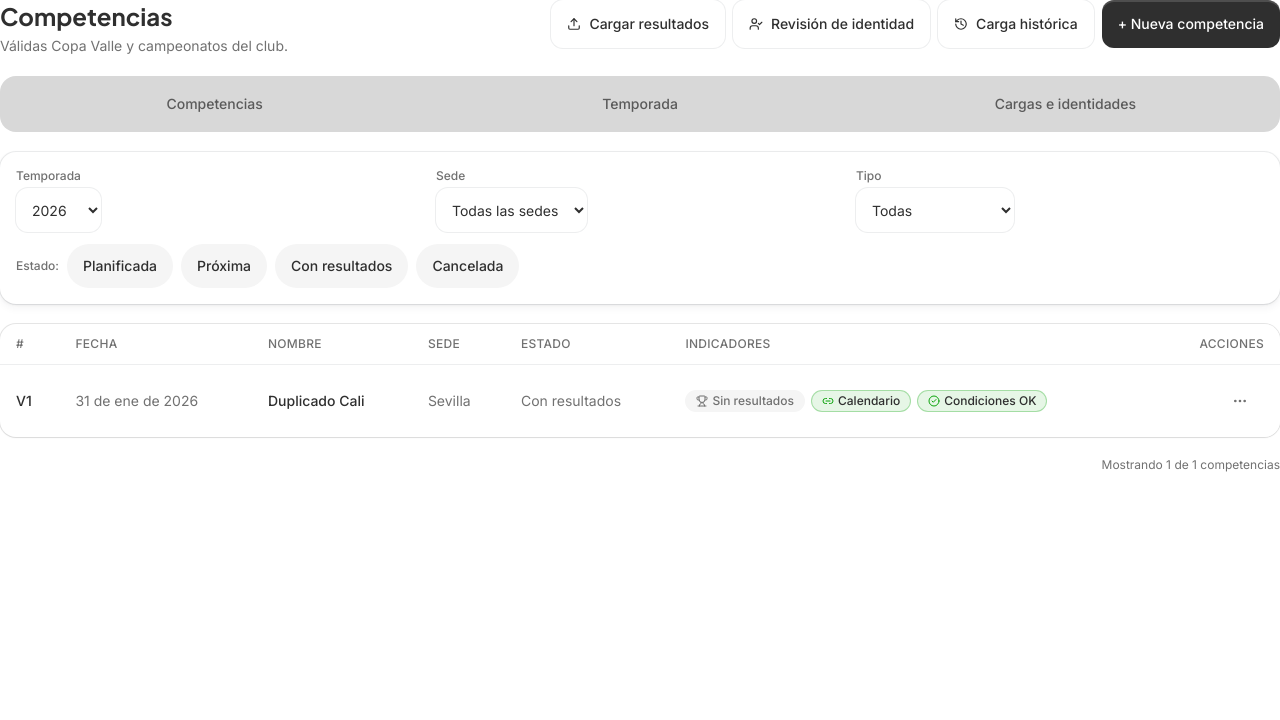
Test: CompetitionsListPage — cleanup duplicado (feature 009) › coach: 'Eliminar duplicado' visible en válida sin resultados → confirma → DELETE /cleanup
Expected: the link "Duplicado Cali" is shown, [268, 392, 364, 409]
Click the button named "Acciones para Duplicado Cali": (1240, 401) [1216, 377, 1264, 425]
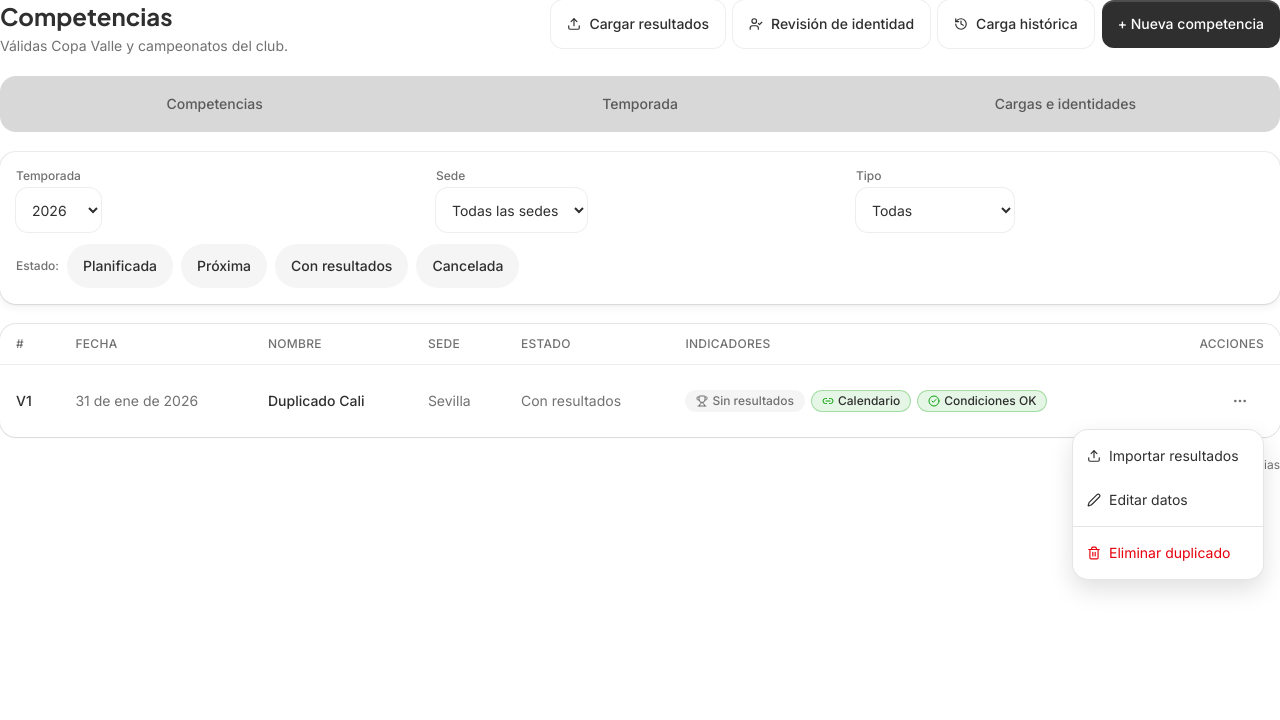
Click the menu item "Eliminar duplicado": (1159, 552) [1087, 544, 1230, 561]
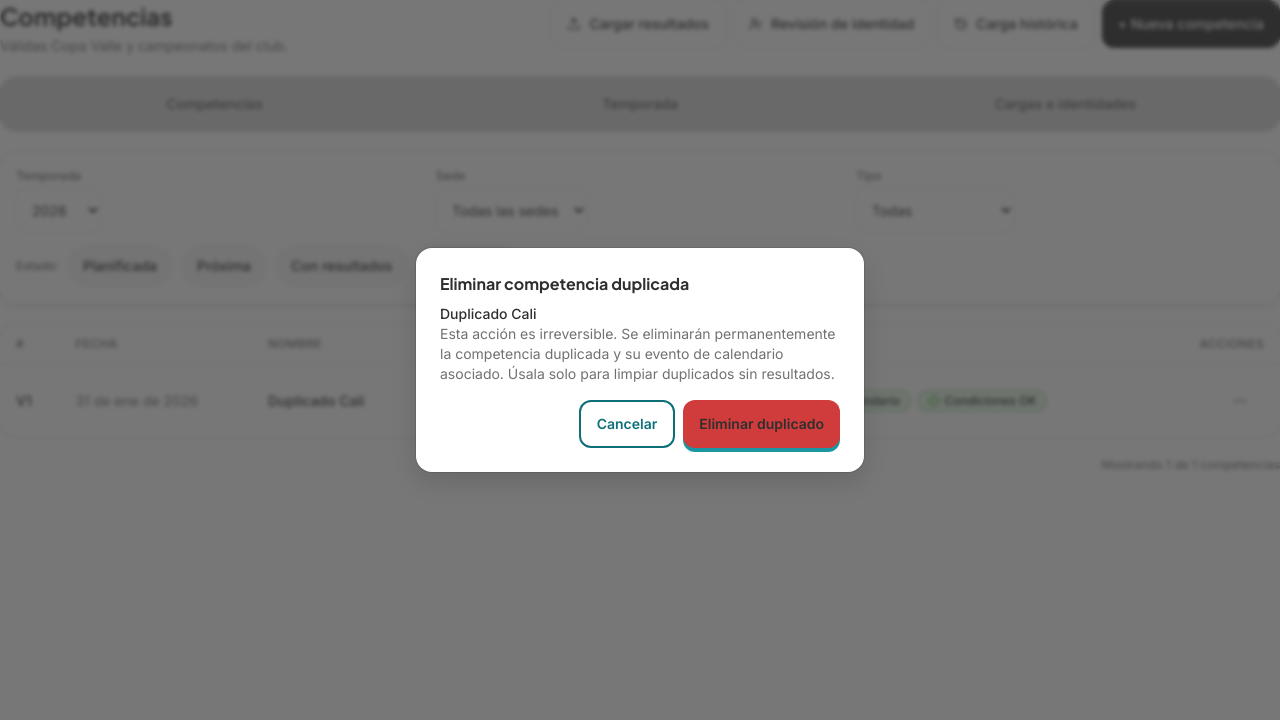
Now the dialog "Eliminar competencia duplicada" is shown, box [416, 248, 864, 472]
Click the button "Eliminar duplicado": (762, 424) [683, 400, 840, 448]
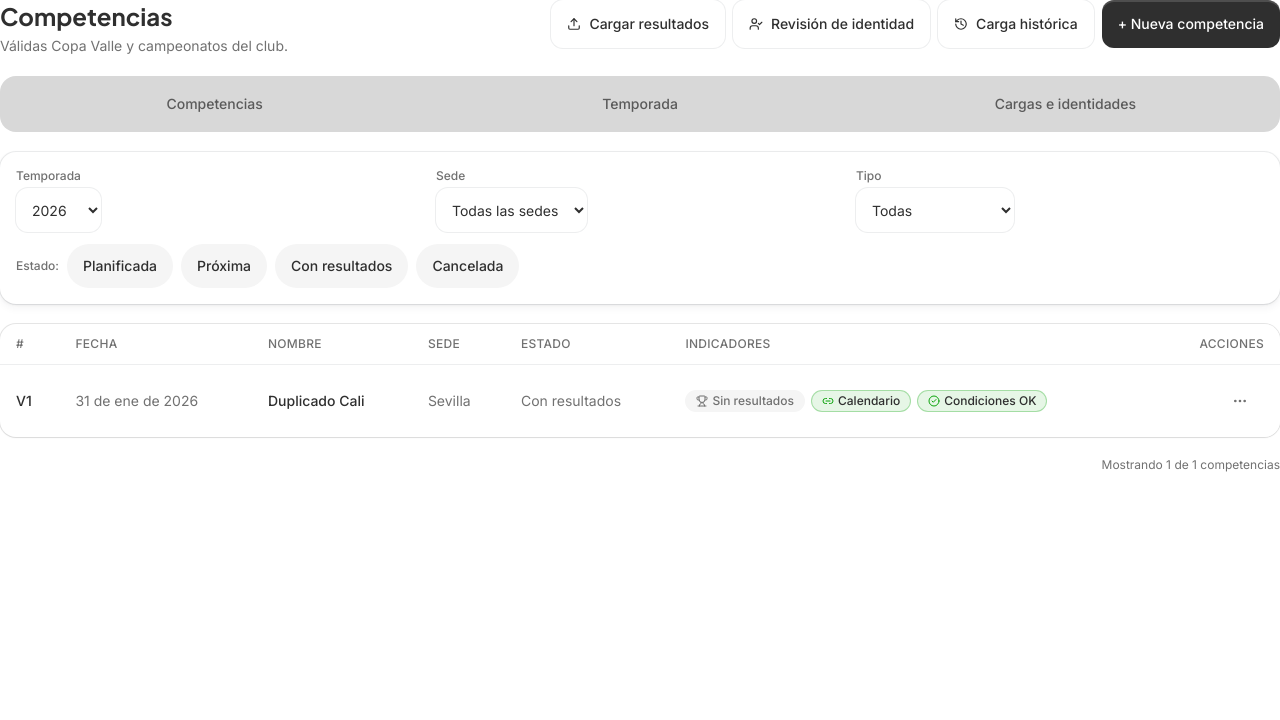
Now the dialog is gone
